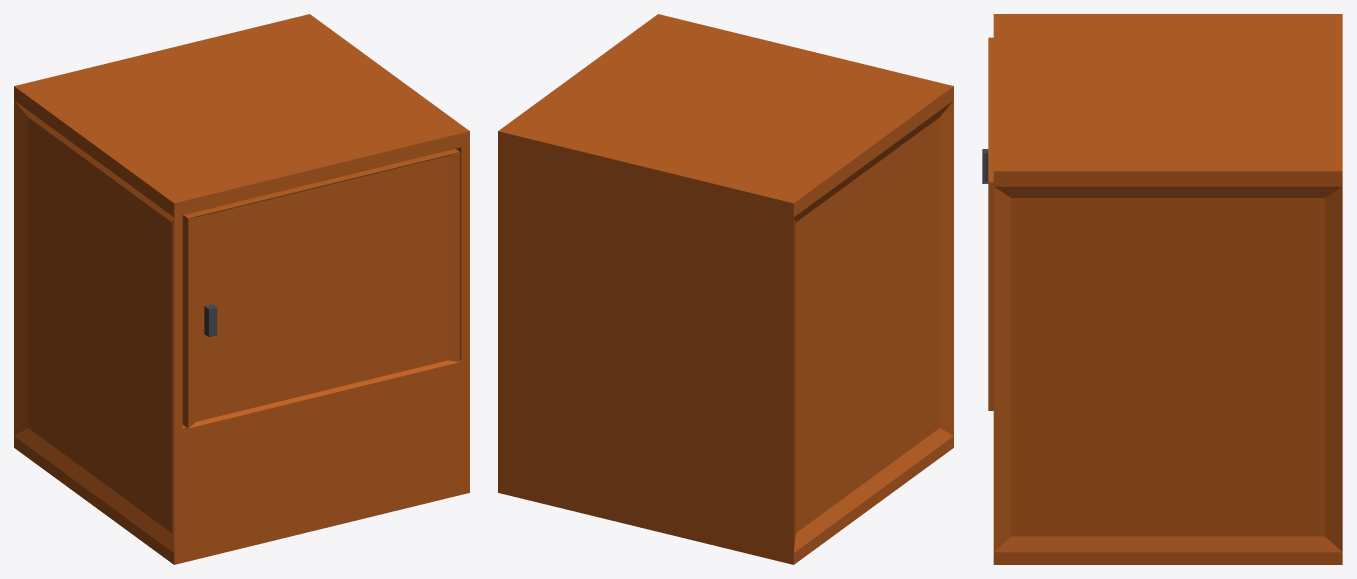
File: MesaConCajon.fbx
The picture shows the model from 3 angles, left to right: view 1: azimuth 30°, elevation 25°; view 2: azimuth 150°, elevation 25°; view 3: azimuth 270°, elevation 25°; orthographic projection. The views are drawn at different scales.
Visible parts, largest first — view 1: MesaNoche, PuertaMesaNoche; view 2: MesaNoche; view 3: MesaNoche, PuertaMesaNoche.
Boxes of the visible parts, x1,y1,x2,y2 form: MesaNoche: [14, 14, 469, 564]; PuertaMesaNoche: [182, 149, 460, 428]; MesaNoche: [498, 14, 953, 564]; MesaNoche: [993, 14, 1342, 564]; PuertaMesaNoche: [982, 37, 993, 410].
Bounding box in the file's own units: 0.5276 × 0.6163 × 0.5108.
